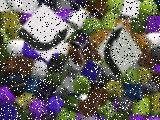Left: (16, 3, 74, 61)
Right: (96, 22, 142, 80)
